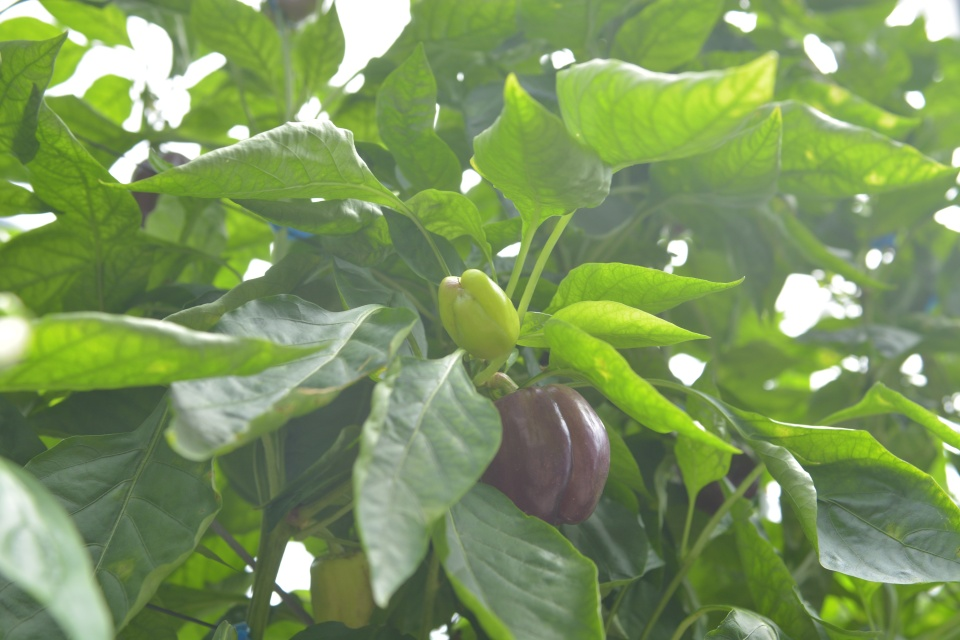fruit: (475, 381, 612, 528)
immature: (436, 266, 522, 361), (308, 543, 377, 630)
